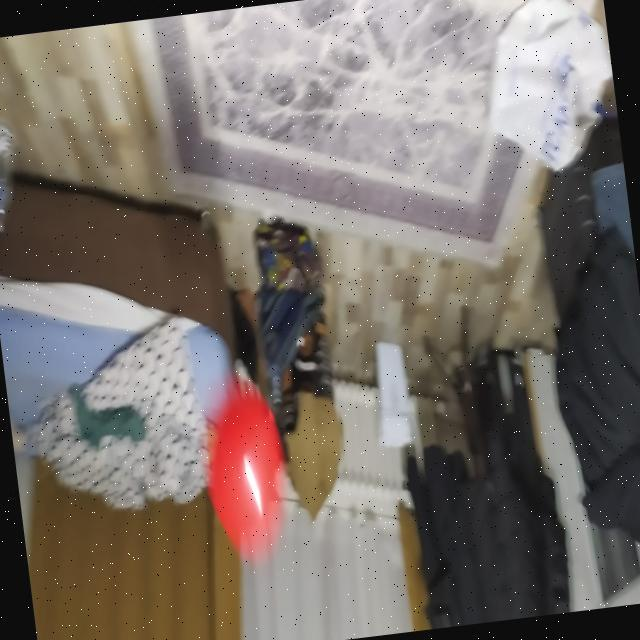balloon: (193, 370, 294, 565)
